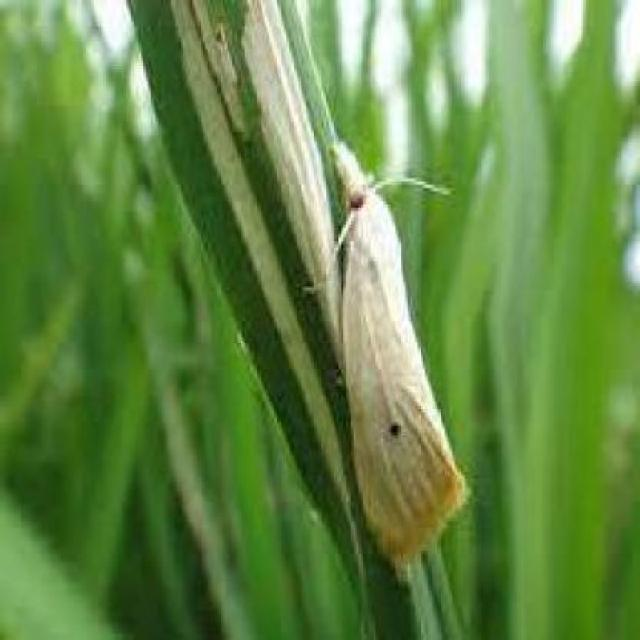stem-borer: (308, 133, 472, 576)
